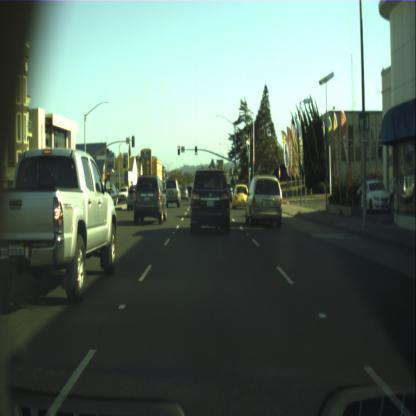Green: (194, 145, 197, 154), (235, 168, 237, 174), (249, 163, 250, 170)
RedLeft: (107, 170, 110, 180), (177, 145, 180, 154)
